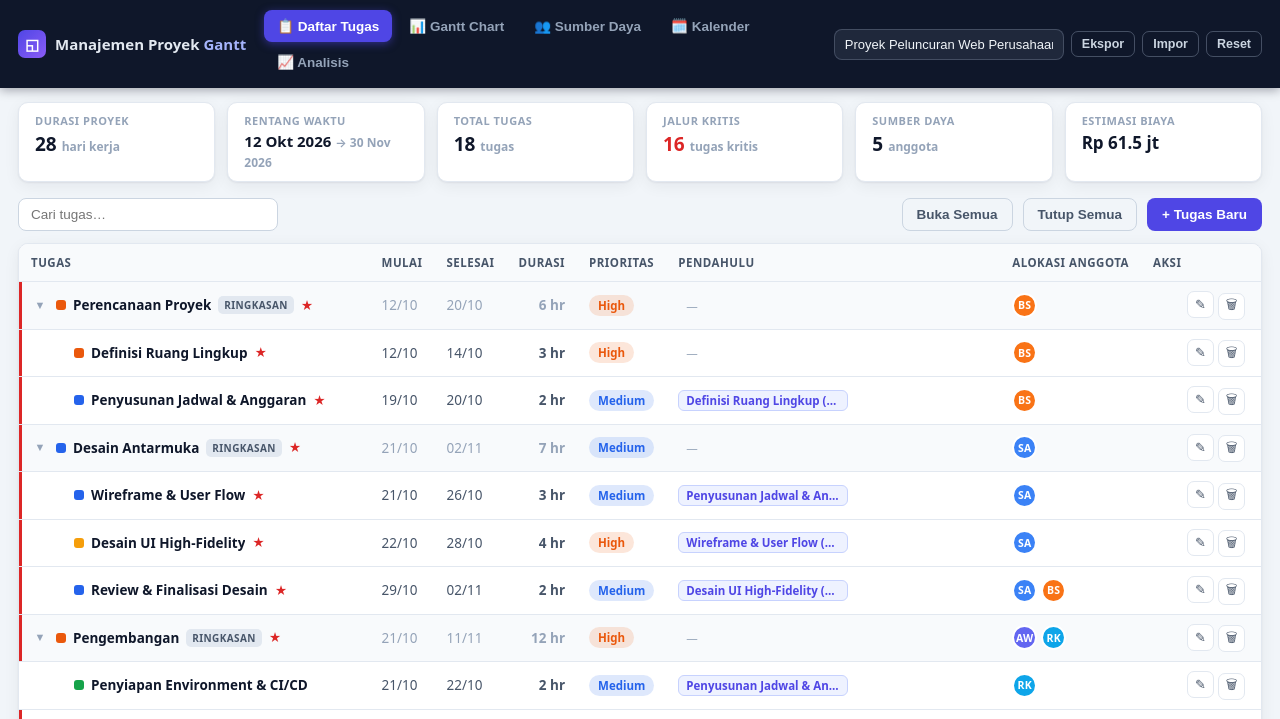
it: App (smoke) › tab Sumber Daya menampilkan anggota dan beban kerja
Click the button "👥 Sumber Daya". click: (588, 26)
box: [521,10,654,42]
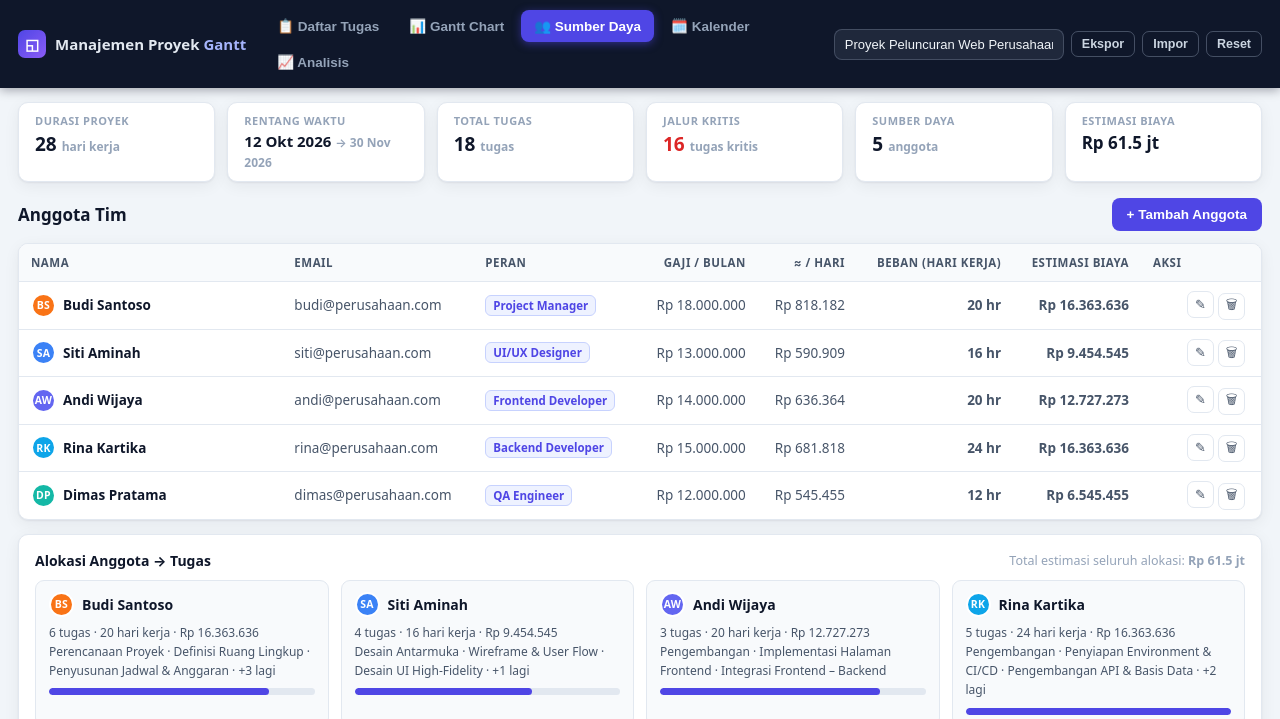
Expected: the text "Estimasi Biaya" is shown, [1082,113,1175,128]
Expected: the text "Budi Santoso" next to "budi@perusahaan.com" is shown, [63,296,151,314]
Expected: the text "budi@perusahaan.com" is shown, [282,282,473,329]
